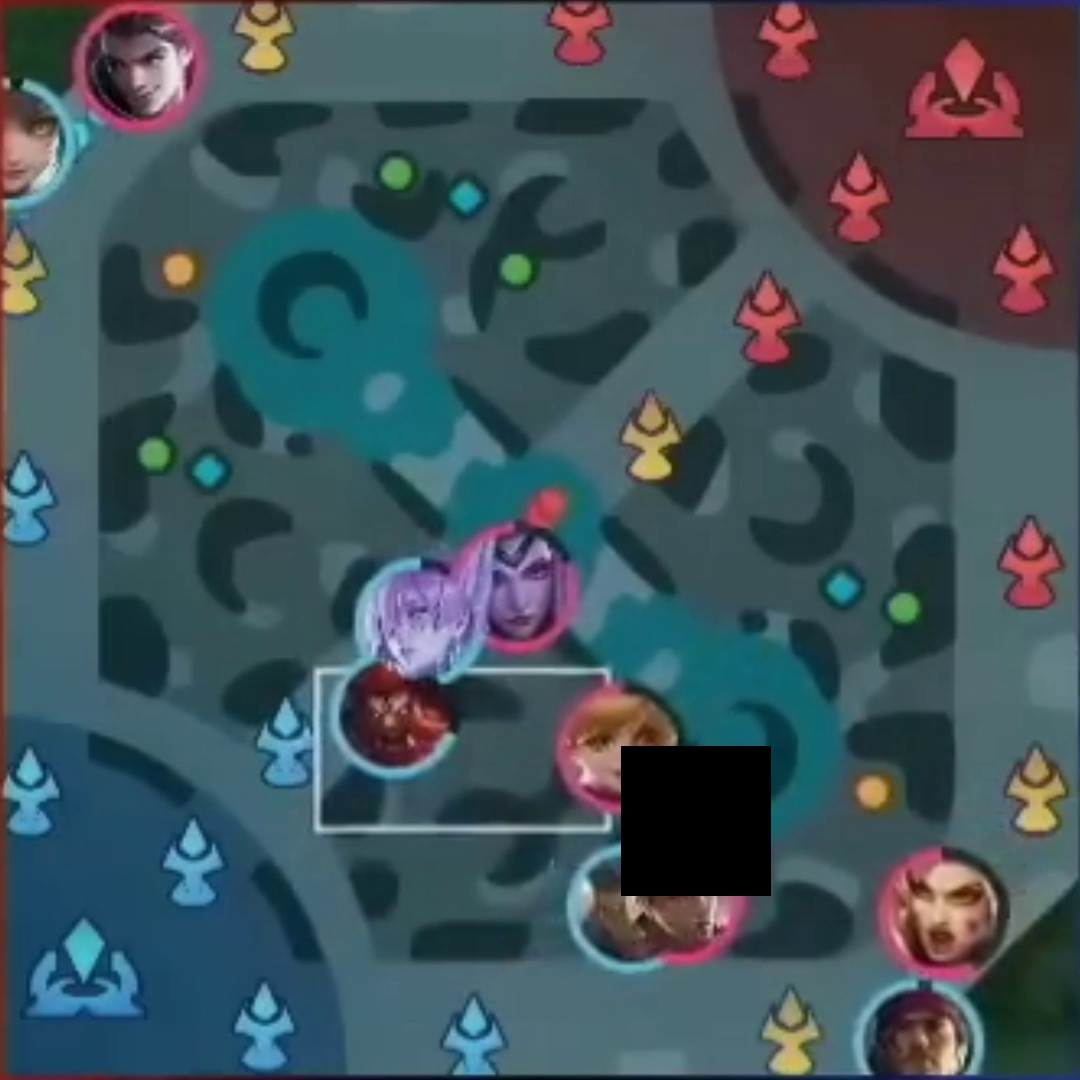Chou: (640, 843, 734, 952)
Claude: (86, 16, 190, 114)
Fanny: (573, 696, 672, 799)
Lapu-Lapu: (869, 985, 971, 1080)
Masha: (897, 853, 994, 968)
Minotaur: (349, 675, 444, 761)
Novaria: (371, 568, 471, 681)
Valentina: (484, 531, 572, 642)
Wanwan: (5, 81, 62, 208)
